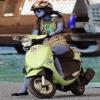motorcycles: (23, 39, 89, 97)
